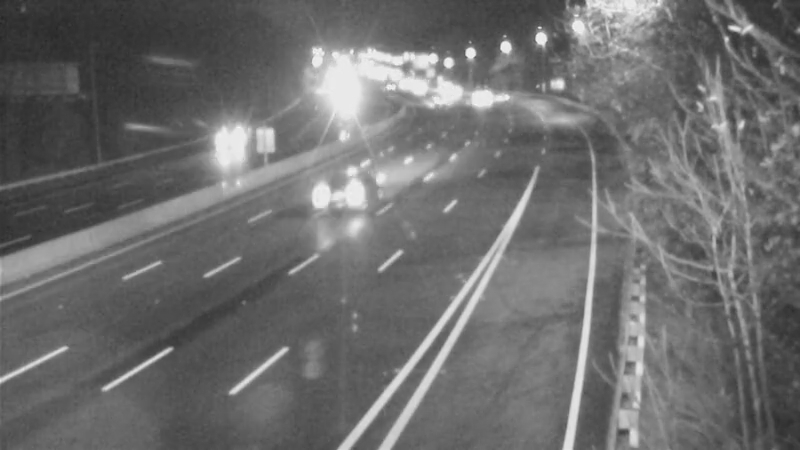vehicle: (313, 153, 393, 233), (453, 73, 503, 123), (477, 71, 527, 121), (206, 116, 256, 166)
